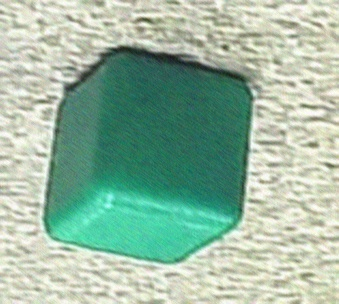green_cube: (38, 44, 273, 267)
